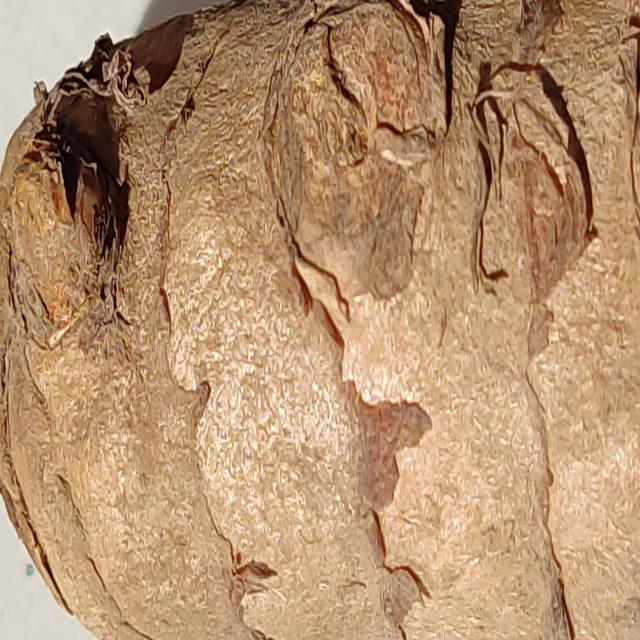ginger: (23, 44, 640, 556)
